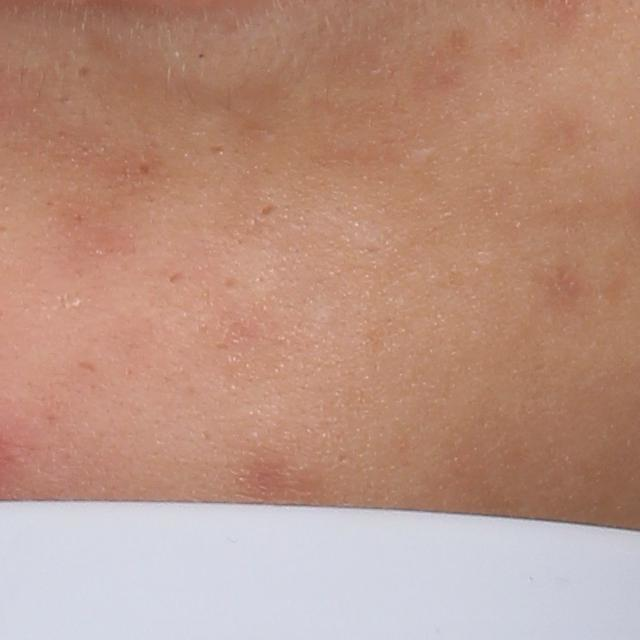atrophic_scar: (73, 358, 101, 377), (257, 201, 281, 222), (73, 64, 89, 82), (136, 162, 154, 177), (209, 145, 226, 156)
comedo: (196, 51, 208, 61)
